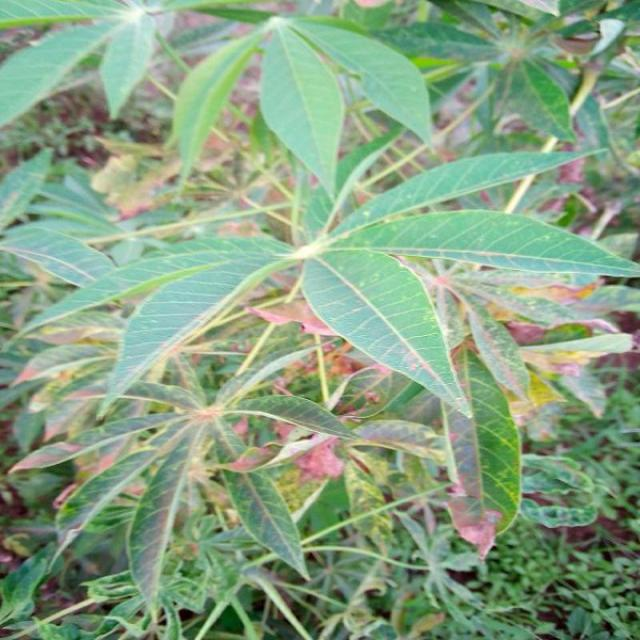cassava leaf: (2, 1, 639, 628), (301, 243, 468, 412), (260, 17, 346, 202)
